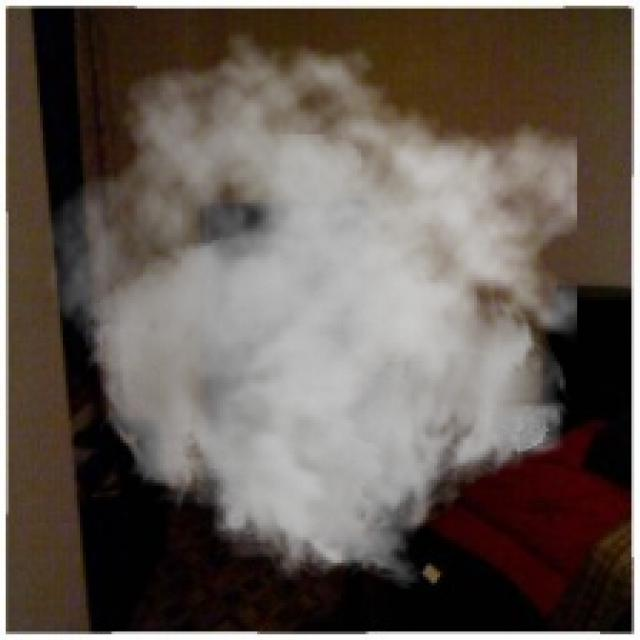smoke: (46, 29, 577, 592)
